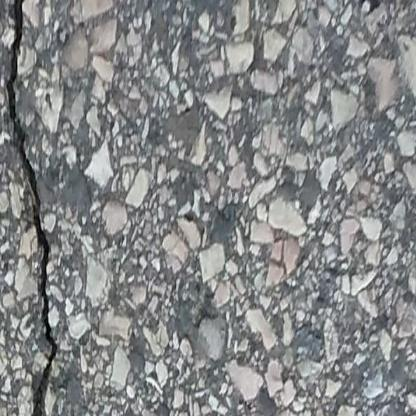Cracks: (4, 0, 61, 416)
